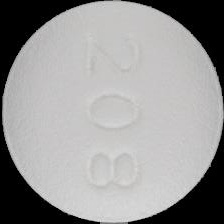68788-0007: (0, 0, 224, 224)
